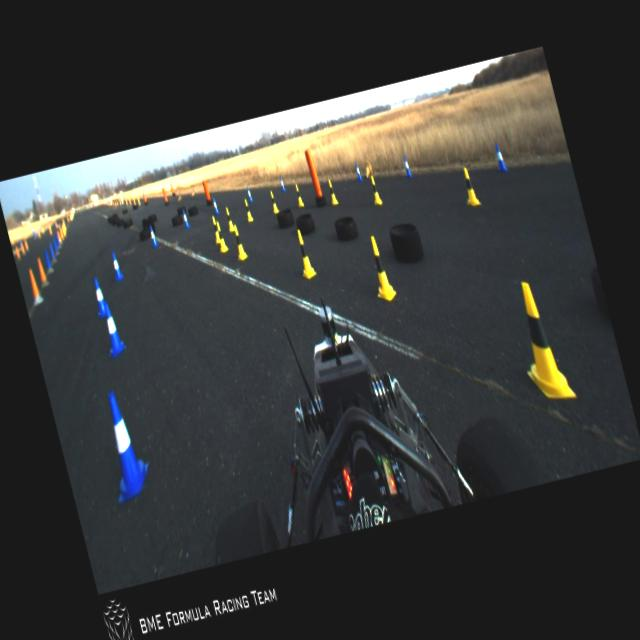blue_cone: (92, 385, 156, 502), (98, 302, 127, 356), (89, 277, 107, 314), (108, 250, 124, 280), (493, 142, 508, 172), (146, 223, 158, 247), (401, 154, 412, 176), (353, 160, 363, 180), (180, 208, 190, 228), (245, 186, 254, 202), (278, 174, 286, 192), (210, 197, 218, 214)
unknown_cone: (26, 268, 44, 306), (35, 255, 50, 286), (42, 246, 54, 272), (362, 160, 374, 177), (48, 241, 57, 262), (50, 237, 59, 255), (54, 231, 62, 248)
yellow_cone: (506, 274, 577, 408), (362, 232, 398, 306), (291, 226, 317, 280), (458, 164, 481, 207), (230, 225, 248, 261), (213, 221, 229, 253), (368, 174, 382, 206), (222, 204, 236, 232), (326, 179, 338, 206), (242, 197, 254, 222), (268, 189, 280, 213), (210, 216, 220, 242), (294, 183, 304, 208)
